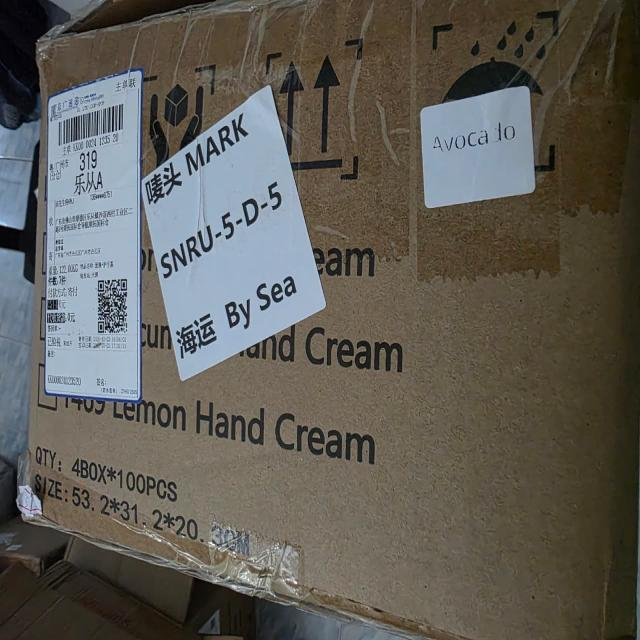carton_box: (14, 3, 640, 640)
export_mark_label: (148, 99, 335, 368), (40, 67, 149, 405)
handle_with_care_label: (141, 63, 224, 198)
keep_dry_label: (434, 13, 566, 142)
package_damage: (14, 447, 421, 637), (28, 2, 279, 50)
this_side_up_label: (259, 42, 364, 212)
